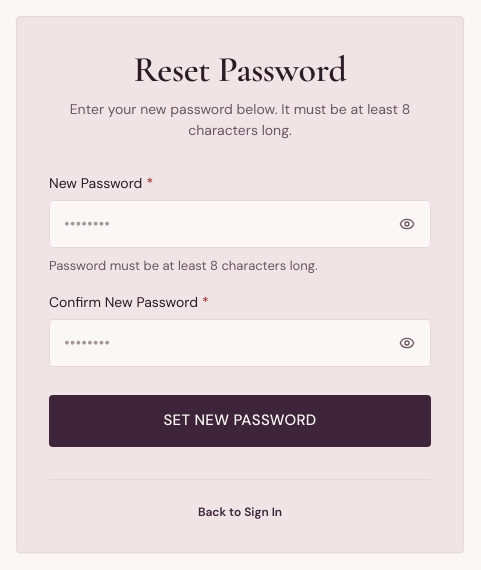
Test: FE-26: Forgot and reset password › Reset Password Page › shows clear message and link to request new link when token is invalid or expired on server
Step 1. Type "ValidPassword123" into the password field labelled "New Password*" → (240, 224), box [49, 200, 431, 248]
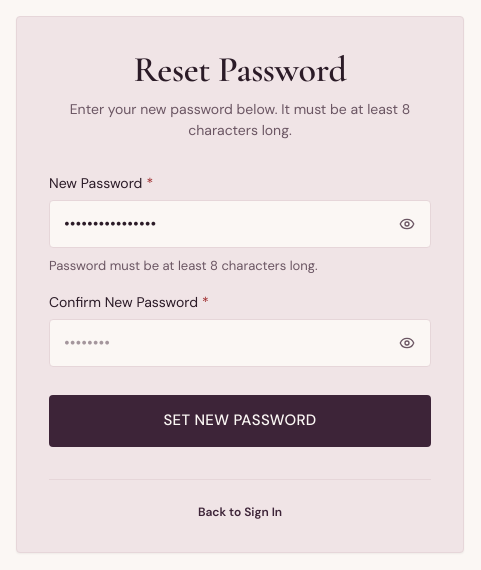
Step 2. Type "ValidPassword123" into the password field labelled "Confirm New Password*" → (240, 343), box [49, 319, 431, 367]
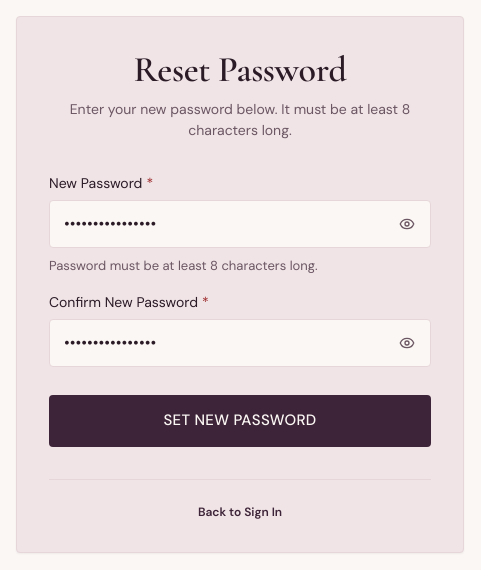
Step 3. Click the button with test id "reset-password-submit-btn" → (240, 421), box [49, 395, 431, 447]
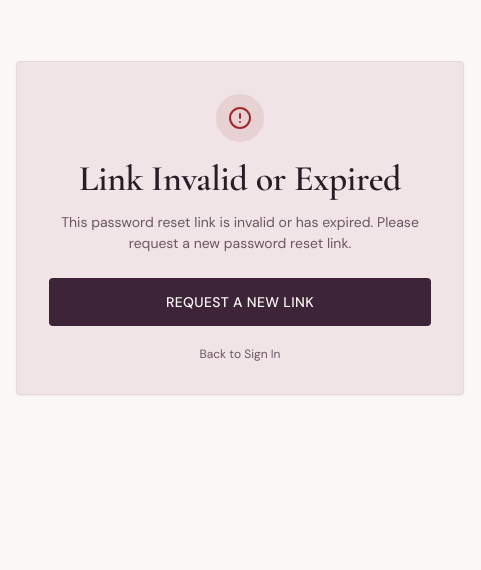
Expected: the element with test id "reset-password-invalid-token" is shown, [49, 94, 431, 362]
Expected: the text "This password reset link is invalid or has expired" is shown, [61, 213, 419, 252]
